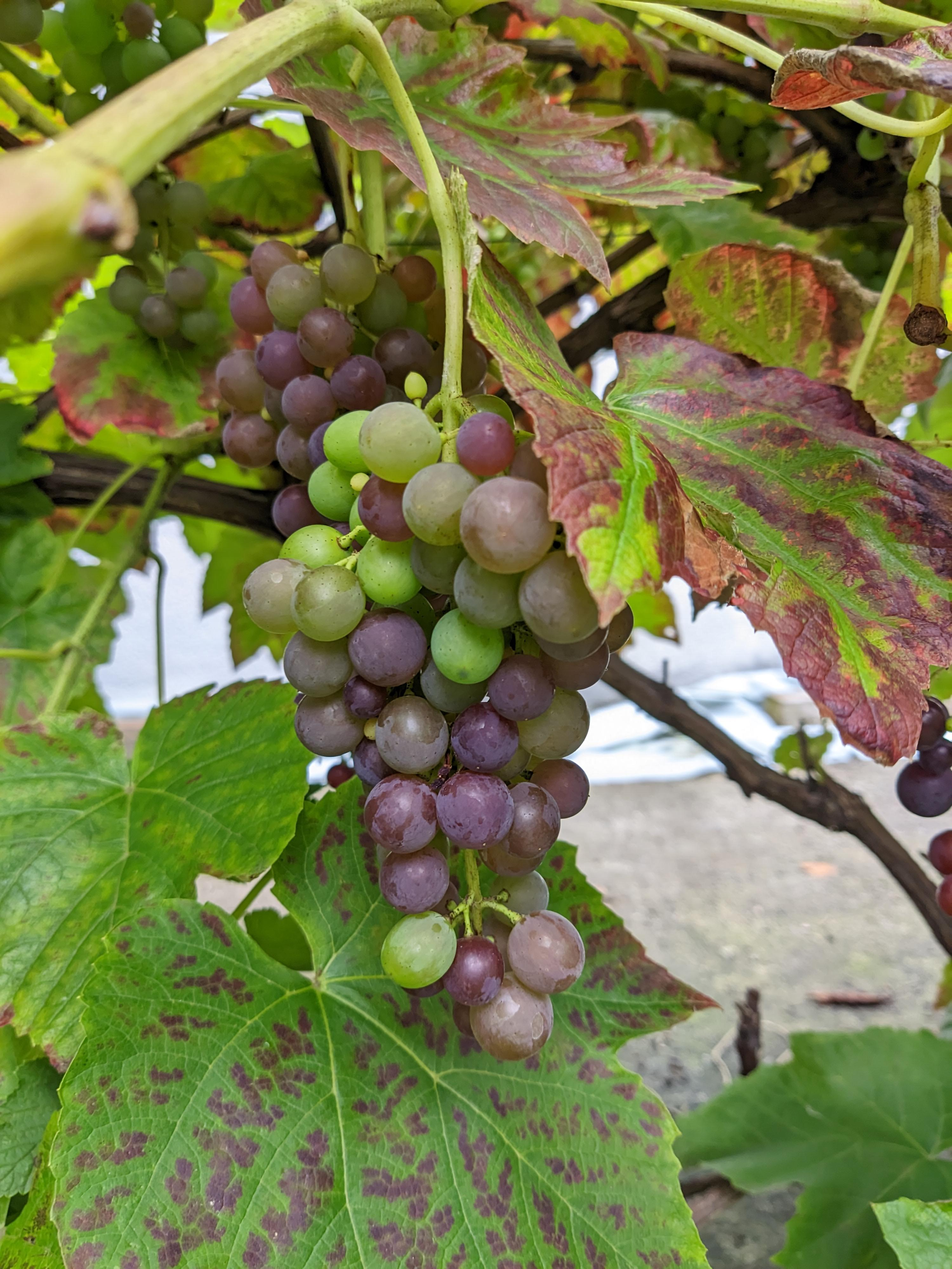Grape Unripe: (234, 395, 650, 1056), (205, 215, 454, 545), (0, 0, 222, 346), (895, 695, 952, 916), (697, 93, 798, 180)
